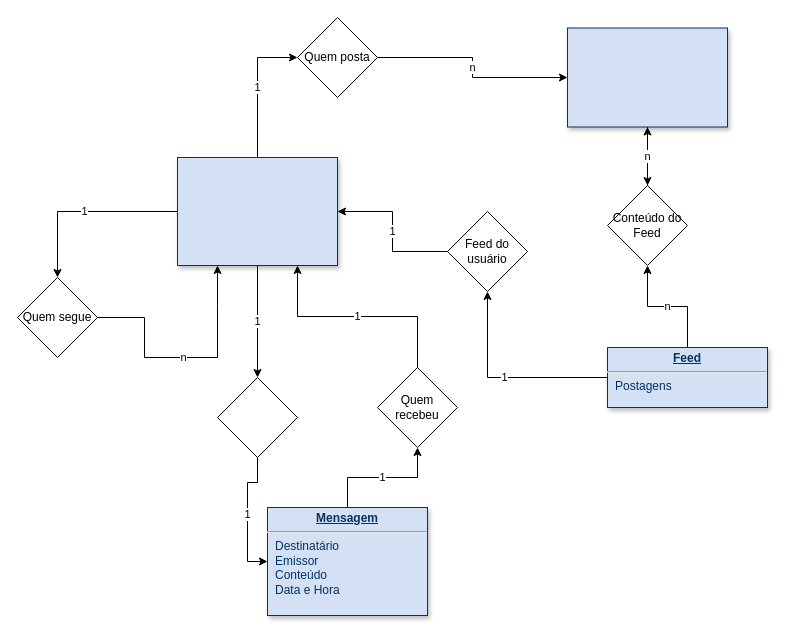
The diagram is 791 pixels wide and 640 high, and some of its shapes have lost their labels. Here are the shapes that lost their labels. From the top down, the centre of each, then its label:
the point at 648,78: Postagem Texto Data e Hora Link Imagem
the point at 258,212: Usuário Nome Apelido Biografia Data de Nascimento
the point at 257,417: Quem enviou
